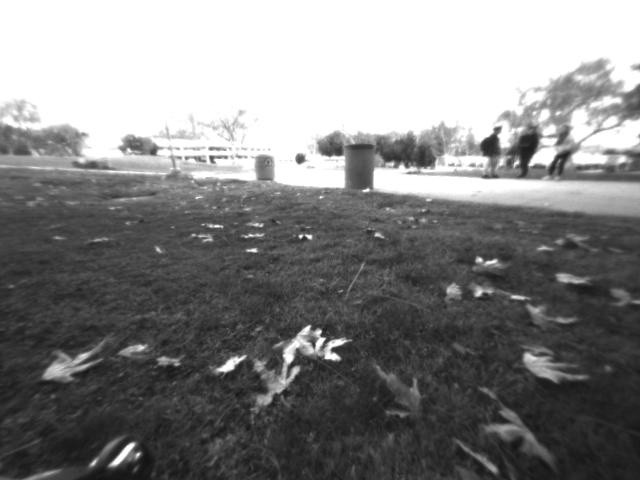trashcan: (342, 140, 378, 191), (256, 151, 277, 182)
